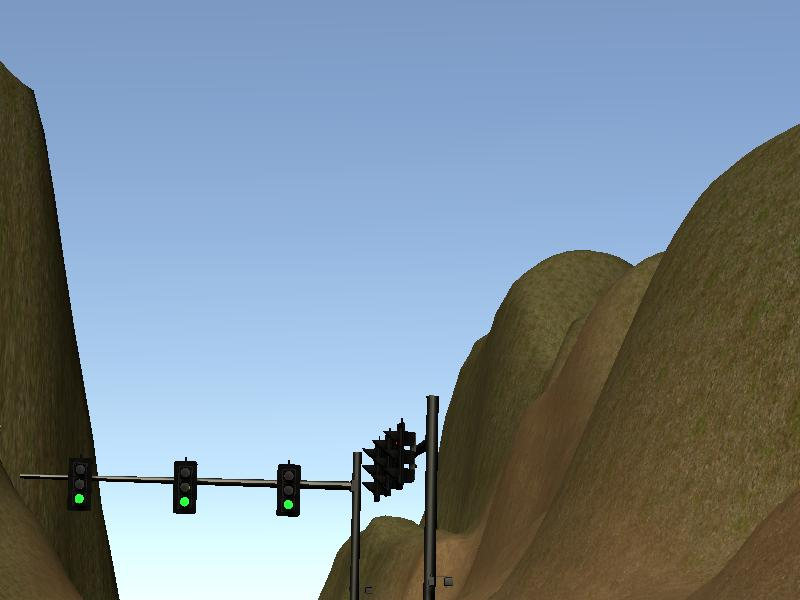Green: (276, 462, 299, 517), (175, 458, 197, 514), (69, 457, 91, 512)
